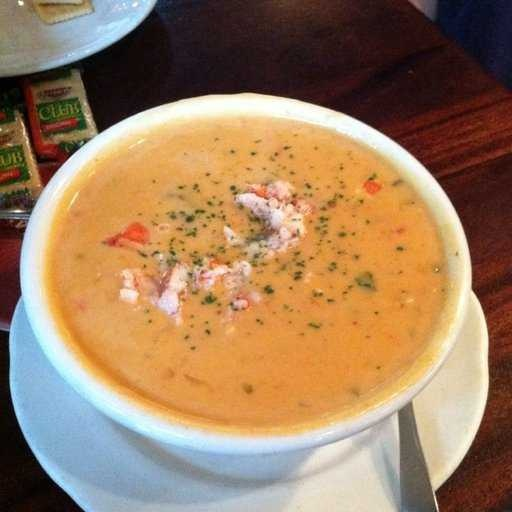soup: (40, 100, 432, 436)
